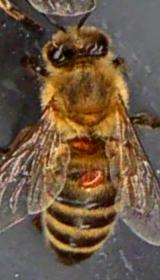varroa_mite: (76, 166, 110, 199)
